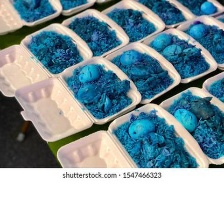foam_box: (11, 54, 144, 144), (52, 100, 212, 168), (0, 20, 95, 98), (157, 65, 224, 168), (101, 38, 183, 105), (139, 23, 218, 87), (59, 6, 133, 57), (99, 0, 167, 44), (172, 11, 224, 66), (0, 0, 63, 34), (170, 0, 224, 21), (50, 0, 111, 14)
